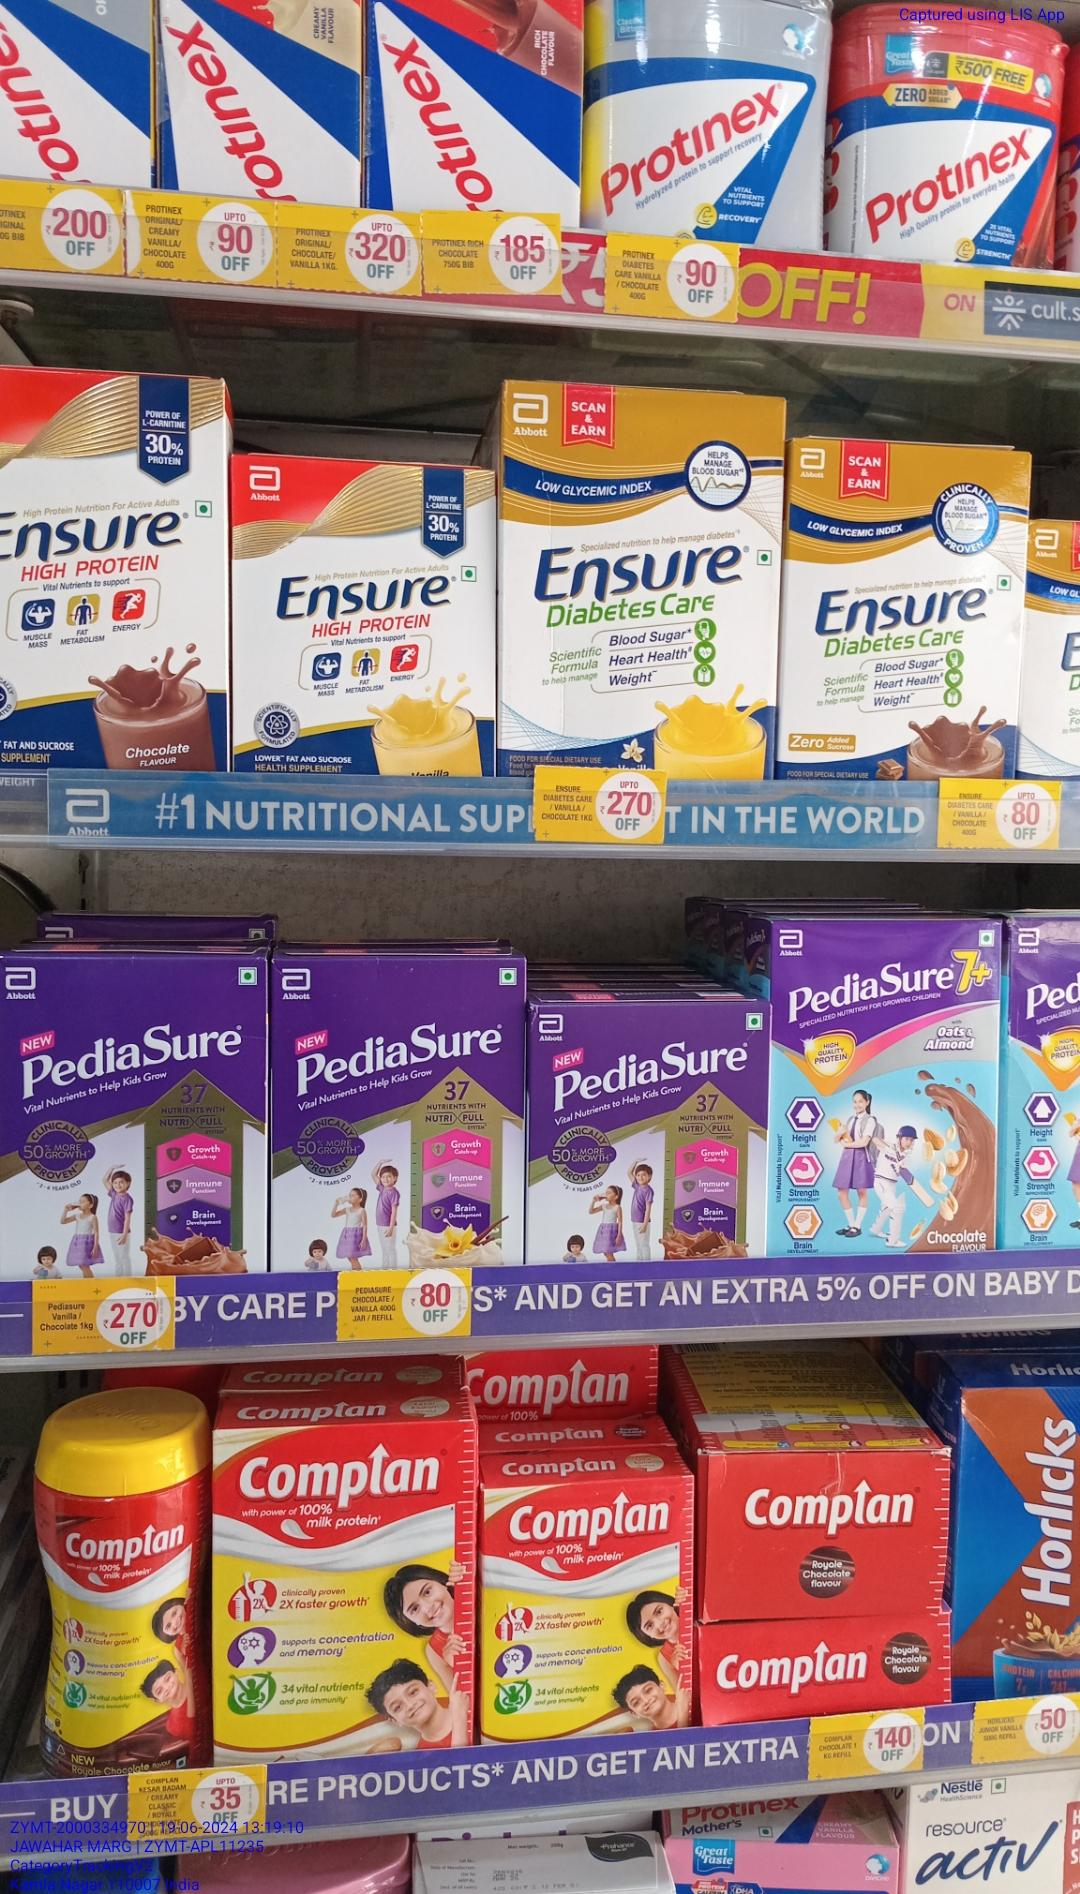COMPLAN_CHOCOLATE_500_GMS_JAR: (34, 1404, 200, 1772)
COMPLAN_KESAR_BADAM_200_GMS_PACK: (484, 1486, 683, 1739)
COMPLAN_KESAR_BADAM_500_GMS_PACK: (213, 1427, 471, 1756)
PEDIASURE_7_PLUS_CHOCOLATE_400_G_PACK: (772, 917, 994, 1255)
PEDIASURE_CHOCOLATE_500_G_PACK: (3, 959, 265, 1275)
PEDIASURE_VANILLA_500_G_PACK: (276, 955, 519, 1270)
PROTINEX_CHOCOLATE_400_G_JAR: (837, 4, 1063, 273)
PROTINEX_ORIGINAL_400_G_JAR: (588, 0, 822, 271)
